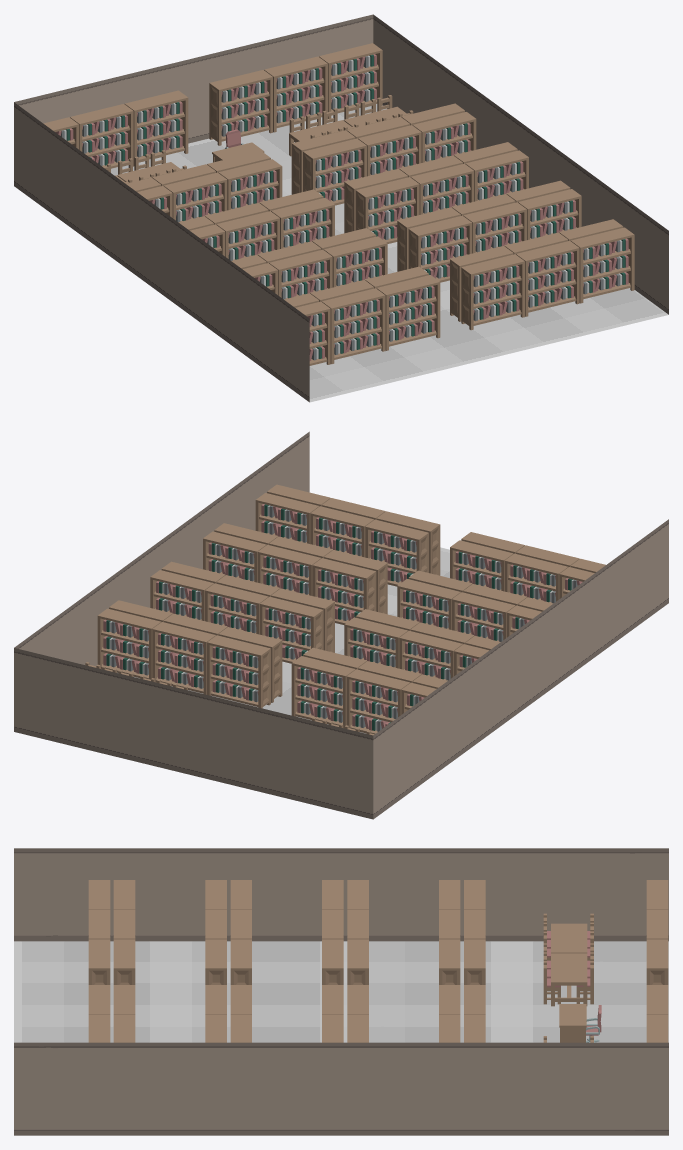
Rendered from library_scene.glb.
The picture shows the model from 3 angles, top to bottom: view 1: azimuth 30°, elevation 25°; view 2: azimuth 150°, elevation 25°; view 3: azimuth 270°, elevation 25°; orthographic projection. The views are drawn at different scales.
Visible parts, largest first — view 1: Cube, bookcaseClosedWide(Clone), bookcaseClosedWide(Clone).016, bookcaseClosedWide(Clone).001, bookcaseClosedWide(Clone).008, bookcaseClosedWide(Clone).012, bookcaseClosedWide(Clone).004, bookcaseClosedWide(Clone).017, bookcaseClosedWide(Clone).013, bookcaseClosedWide(Clone).005, bookcaseClosedWide(Clone).009, bookcaseClosedWide(Clone).002 (+8 smaller); view 2: Cube, bookcaseClosedWide(Clone).014, bookcaseClosedWide(Clone).002, bookcaseClosedWide(Clone).010, bookcaseClosedWide(Clone).006, bookcaseClosedWide(Clone).015, bookcaseClosedWide(Clone).011, bookcaseClosedWide(Clone).007, bookcaseClosedWide(Clone).003, bookcaseClosedWide(Clone).012, bookcaseClosedWide(Clone), bookcaseClosedWide(Clone).004 (+5 smaller); view 3: Cube, bookcaseClosedWide(Clone).001, bookcaseClosedWide(Clone).003, bookcaseClosedWide(Clone).017, bookcaseClosedWide(Clone).005, bookcaseClosedWide(Clone).007, bookcaseClosedWide(Clone).009, bookcaseClosedWide(Clone).011, bookcaseClosedWide(Clone).013, bookcaseClosedWide(Clone).015, table(Clone).003, bookcaseClosedWide(Clone) (+10 smaller).
Part boxes in pixels (x1,y1,x2,y2): Cube: (14, 14, 668, 402); bookcaseClosedWide(Clone): (461, 227, 634, 330); bookcaseClosedWide(Clone).016: (209, 43, 382, 145); bookcaseClosedWide(Clone).001: (295, 275, 440, 365); bookcaseClosedWide(Clone).008: (355, 150, 528, 243); bookcaseClosedWide(Clone).012: (303, 112, 476, 205); bookcaseClosedWide(Clone).004: (408, 189, 581, 282); bookcaseClosedWide(Clone).017: (43, 90, 188, 168); bookcaseClosedWide(Clone).013: (137, 159, 282, 222); bookcaseClosedWide(Clone).005: (243, 236, 387, 299); bookcaseClosedWide(Clone).009: (190, 198, 334, 260); bookcaseClosedWide(Clone).002: (450, 219, 623, 321); Cube: (14, 431, 668, 819); bookcaseClosedWide(Clone).014: (97, 608, 270, 708); bookcaseClosedWide(Clone).002: (255, 493, 428, 586); bookcaseClosedWide(Clone).010: (150, 570, 323, 663); bookcaseClosedWide(Clone).006: (203, 531, 376, 624); bookcaseClosedWide(Clone).015: (291, 656, 436, 734); bookcaseClosedWide(Clone).011: (344, 617, 488, 680); bookcaseClosedWide(Clone).007: (397, 579, 541, 641); bookcaseClosedWide(Clone).003: (450, 540, 594, 603); bookcaseClosedWide(Clone).012: (109, 600, 282, 702); bookcaseClosedWide(Clone): (267, 484, 440, 575); bookcaseClosedWide(Clone).004: (214, 523, 387, 614); Cube: (14, 848, 668, 1135); bookcaseClosedWide(Clone).001: (88, 880, 110, 984); bookcaseClosedWide(Clone).003: (113, 880, 135, 984); bookcaseClosedWide(Clone).017: (646, 880, 668, 984); bookcaseClosedWide(Clone).005: (205, 880, 226, 984); bookcaseClosedWide(Clone).007: (230, 880, 251, 984); bookcaseClosedWide(Clone).009: (322, 880, 343, 984); bookcaseClosedWide(Clone).011: (347, 880, 368, 984); bookcaseClosedWide(Clone).013: (439, 880, 460, 984); bookcaseClosedWide(Clone).015: (464, 880, 485, 984); table(Clone).003: (551, 953, 587, 1006); bookcaseClosedWide(Clone): (88, 985, 110, 1042).
Size of the model in its own units: 19.68 by 4.4 by 28.06.
8 materials, 1 textured.
